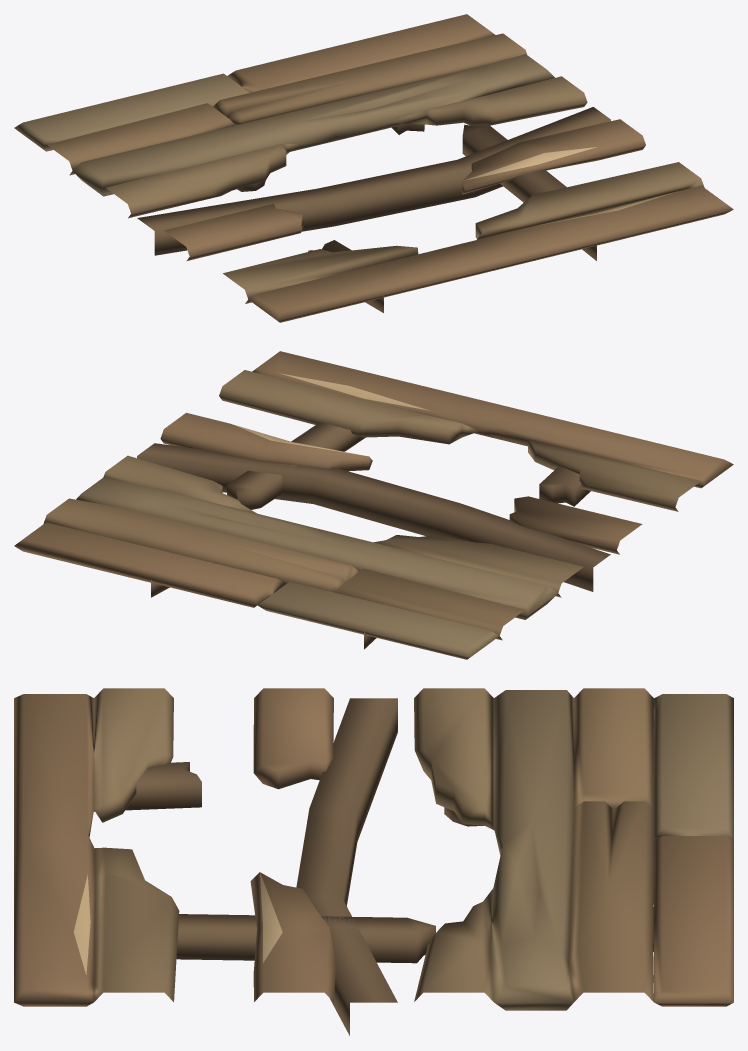
Rendered from rpgpp_av_floor_02e_3x3_2side.gltf.
The picture shows the model from 3 angles, top to bottom: view 1: azimuth 30°, elevation 25°; view 2: azimuth 150°, elevation 25°; view 3: azimuth 270°, elevation 25°; orthographic projection. The views are drawn at different scales.
Visible parts, largest first — view 1: rpgpp_av_floor_02e_3x3_2side; view 2: rpgpp_av_floor_02e_3x3_2side; view 3: rpgpp_av_floor_02e_3x3_2side.
Part boxes in pixels (box(x1,y1,x2,y2)): rpgpp_av_floor_02e_3x3_2side: box(14, 14, 733, 322); rpgpp_av_floor_02e_3x3_2side: box(14, 351, 733, 659); rpgpp_av_floor_02e_3x3_2side: box(14, 688, 733, 1035).
Size of the model in its own units: 0.03 by 0.00215 by 0.03.
1 material, 1 textured.
